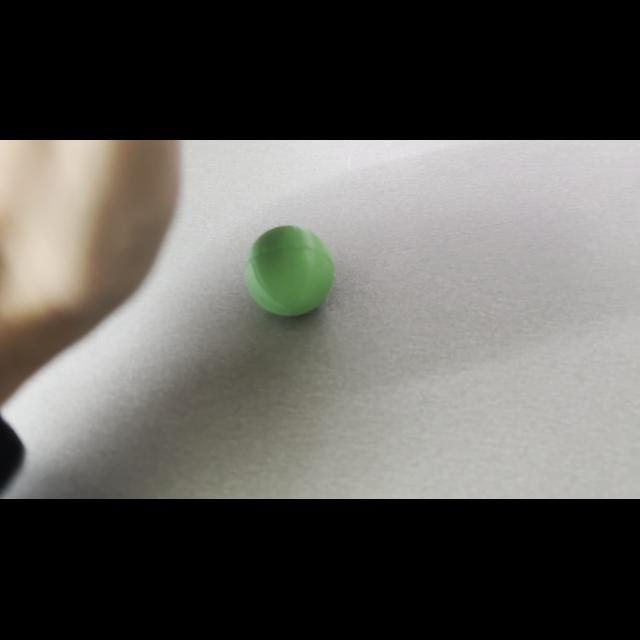objects: (237, 216, 343, 326)
